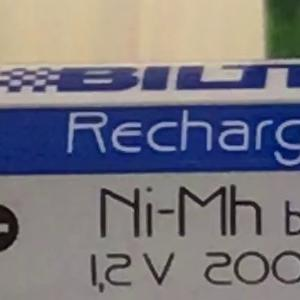NI-MH: (90, 174, 272, 248)
